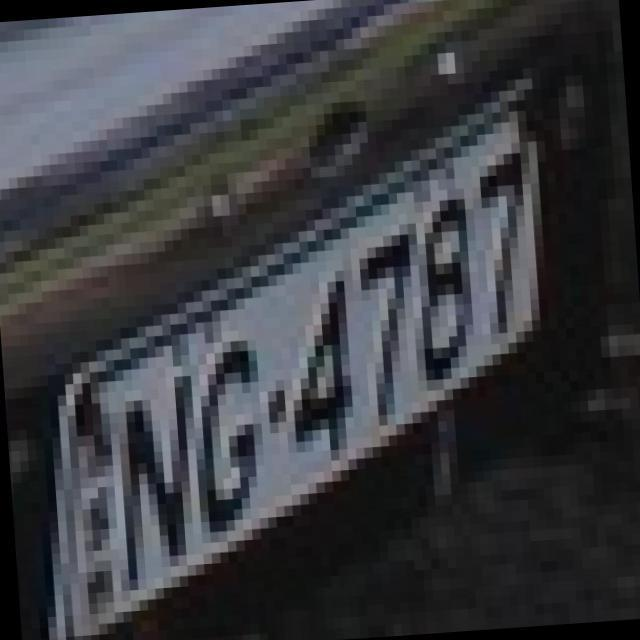License Plate: (18, 56, 600, 640)
